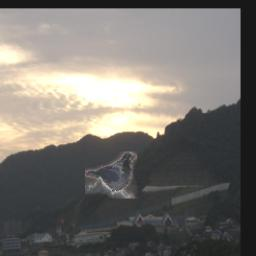Crow: (85, 153, 137, 200)
